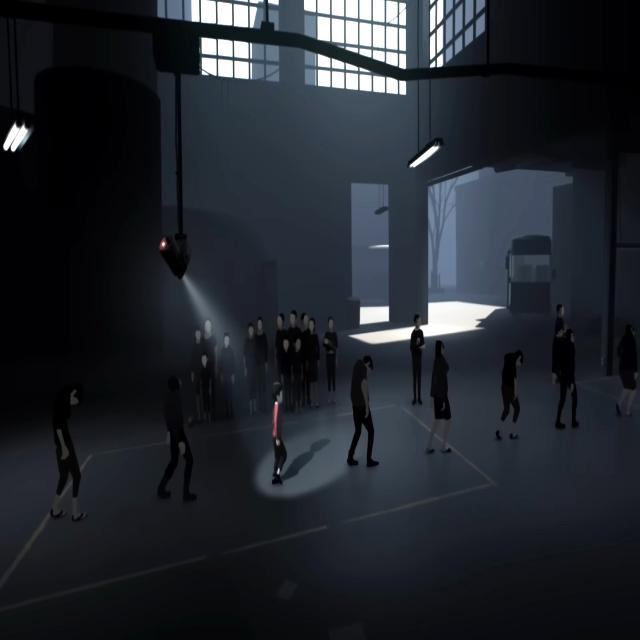boy: (272, 382, 288, 486)
human: (410, 314, 426, 405), (323, 317, 338, 405), (220, 332, 235, 420), (243, 322, 257, 416), (306, 317, 320, 409), (255, 316, 268, 414), (190, 327, 203, 422), (200, 351, 212, 425), (292, 336, 303, 414), (274, 313, 286, 381), (202, 317, 218, 352), (280, 336, 292, 382), (554, 303, 568, 329), (286, 310, 299, 336), (300, 311, 308, 336)
zombie: (50, 382, 88, 522), (157, 373, 197, 502), (347, 355, 379, 467), (426, 340, 452, 453), (496, 350, 524, 440), (556, 329, 580, 429), (616, 323, 638, 417)
